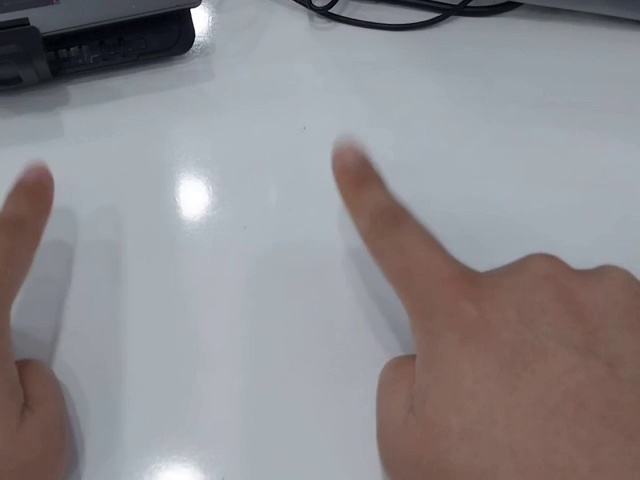fingers: (3, 163, 57, 227), (330, 138, 385, 187)
